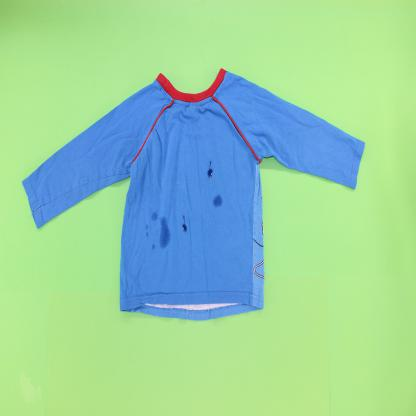stain: (158, 214, 172, 250), (205, 159, 215, 185), (212, 191, 225, 210), (181, 214, 188, 238), (151, 211, 158, 223), (151, 243, 156, 251), (145, 223, 149, 231), (145, 231, 149, 238)
